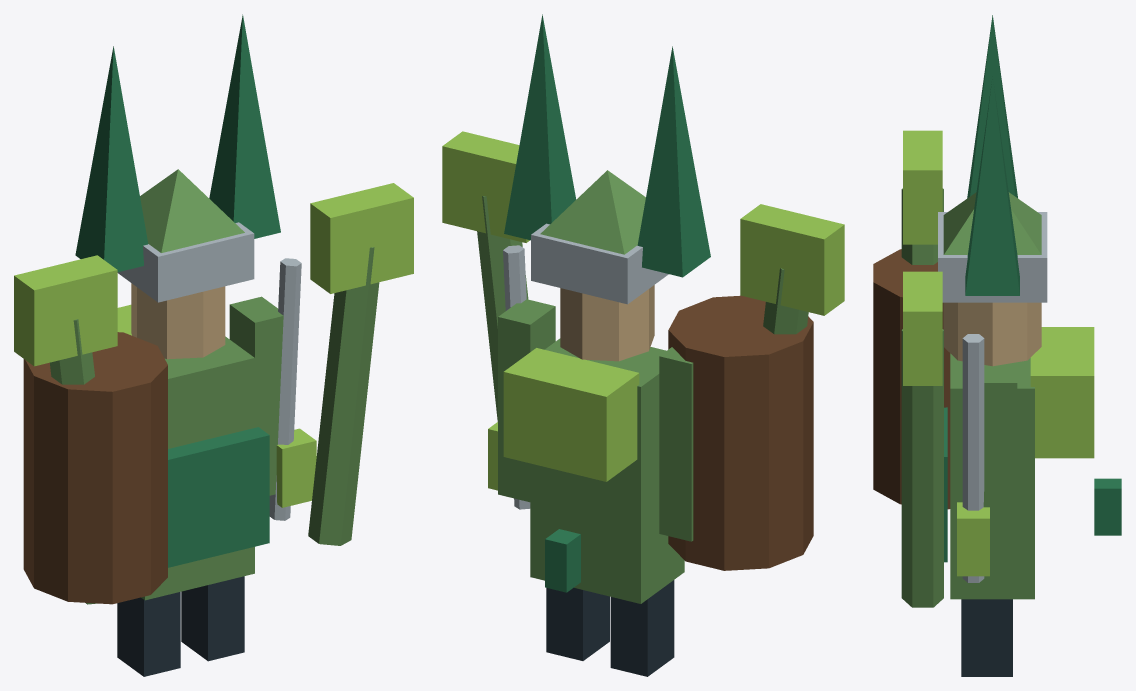
File: raider.obj
The picture shows the model from 3 angles, left to right: view 1: azimuth 30°, elevation 25°; view 2: azimuth 150°, elevation 25°; view 3: azimuth 270°, elevation 25°; orthographic projection. The views are drawn at different scales.
Parts seen in each view (by area): view 1: infantry; view 2: infantry; view 3: infantry.
Boxes of the visible parts, x1=… form: infantry: x1=14, y1=14, x2=413, y2=676; infantry: x1=442, y1=14, x2=844, y2=676; infantry: x1=873, y1=15, x2=1121, y2=676.
Size of the model in its own units: 1.41 by 2.21 by 0.8181.
